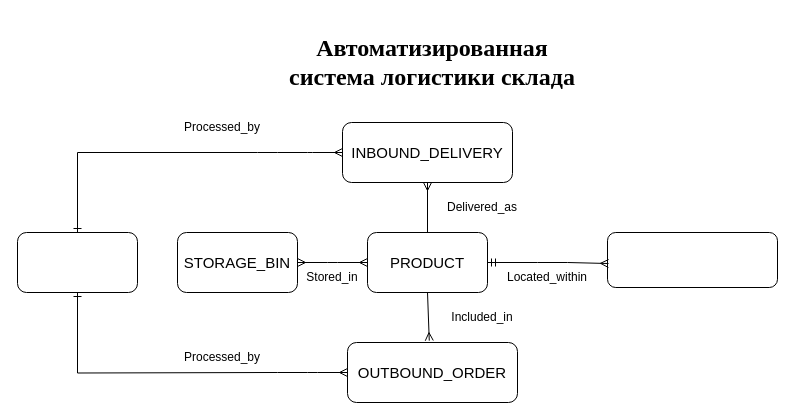
The diagram is 795 pixels wide and 420 high, and some of its shapes have lost their labels. Each missing label, with the centre of its shape:
"STAFF" belongs at point (77, 262).
"WAREHOUSE_ZONE" belongs at point (692, 260).
